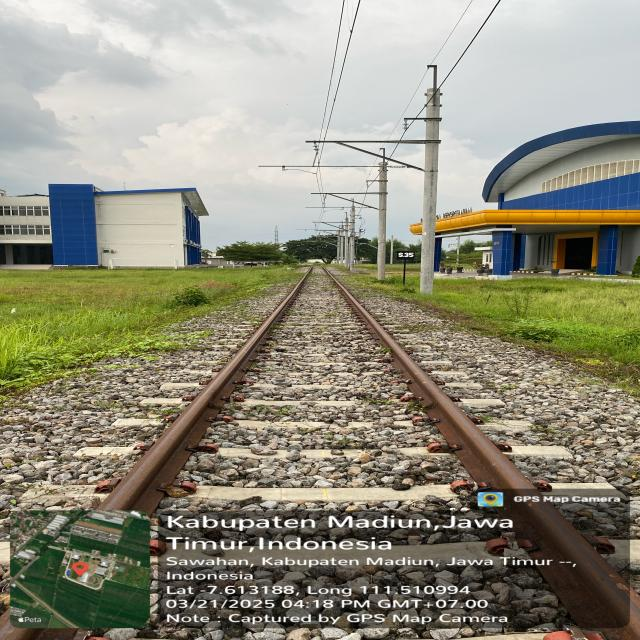rail-detection: (329, 275, 640, 628), (101, 271, 309, 510)
